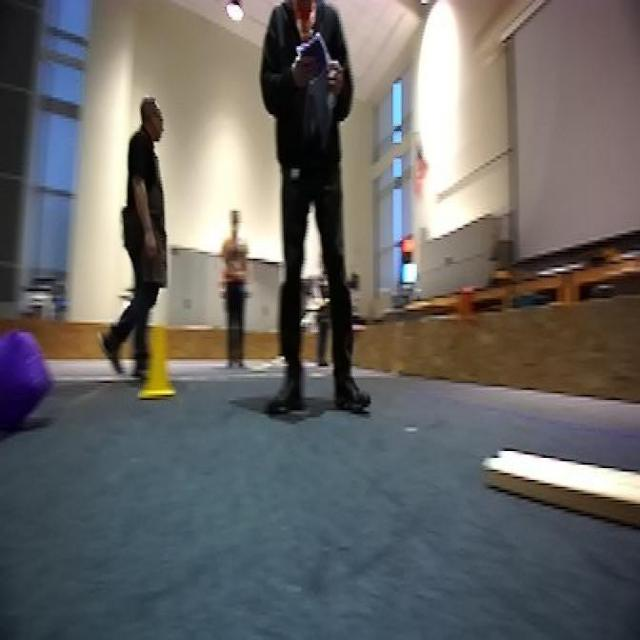frc_cone: (144, 322, 174, 400)
frc_cube: (0, 332, 50, 441)
